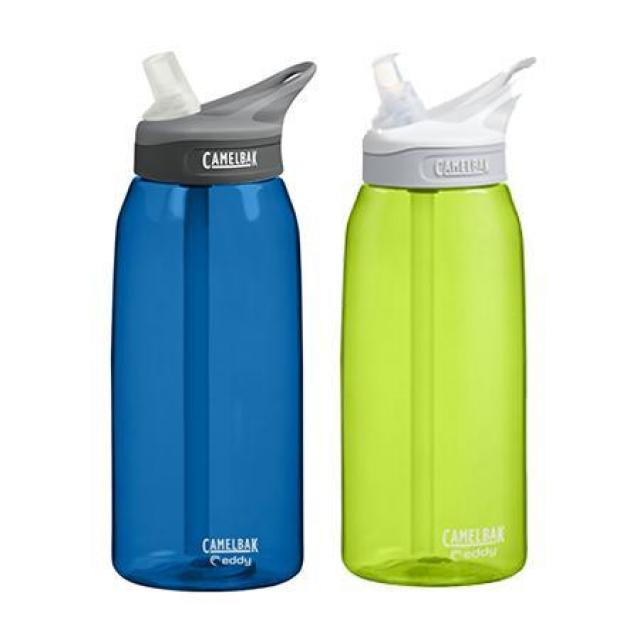plastic_bottle: (326, 32, 559, 603), (96, 43, 329, 606)
